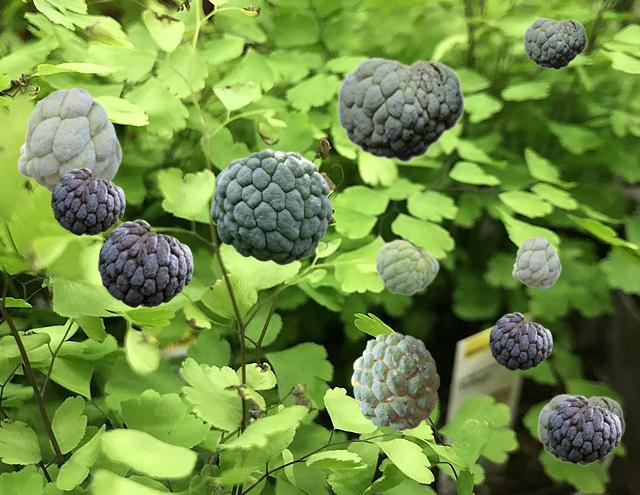atis: (210, 148, 331, 264), (336, 56, 464, 162), (17, 87, 121, 192), (351, 332, 438, 429), (98, 219, 192, 306), (537, 393, 624, 465), (51, 167, 124, 234), (547, 395, 620, 462), (374, 238, 438, 295), (489, 312, 551, 369), (523, 17, 586, 69), (512, 236, 560, 288)
